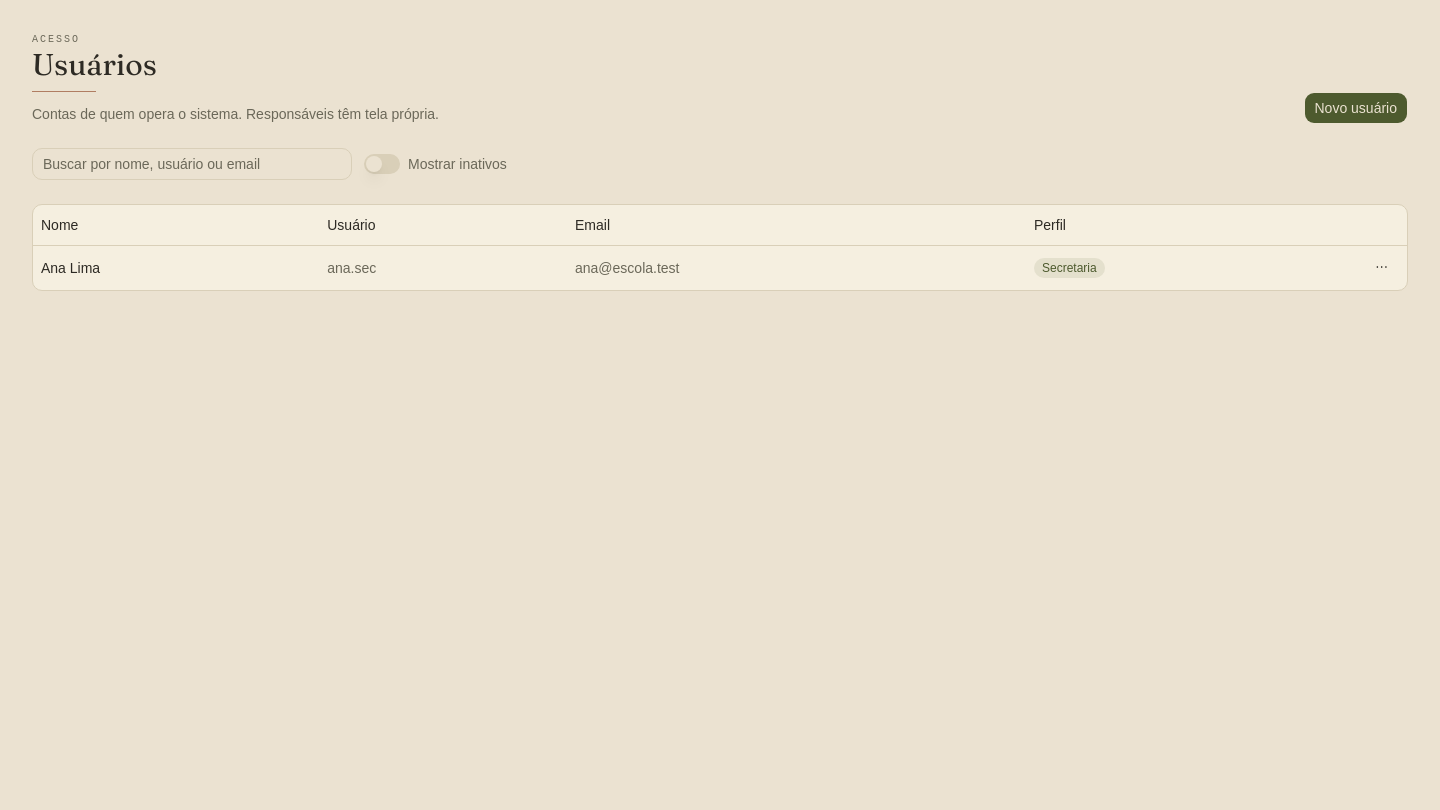
UsuariosPage › abre o dialog de novo usuário avisando que a conta nasce sem senha
Expected: the text "Ana Lima" is shown, [41, 260, 100, 276]
Click the button "Novo usuário".
click(1356, 108)  # box [1304, 92, 1408, 124]
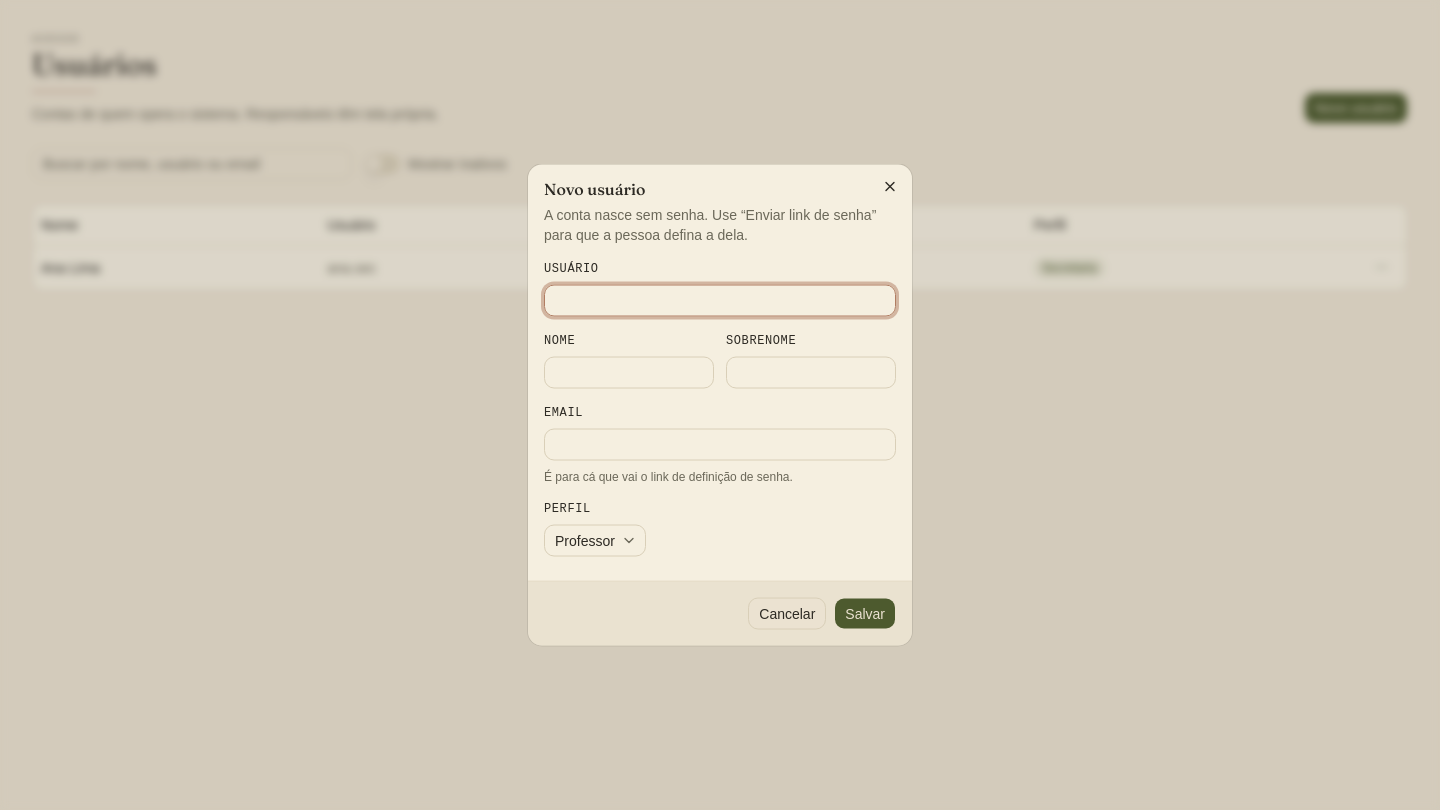
Expected: the text "nasce sem senha" is shown, [544, 206, 876, 242]
Expected: the field labelled "Usuário" is shown, [544, 284, 896, 316]
